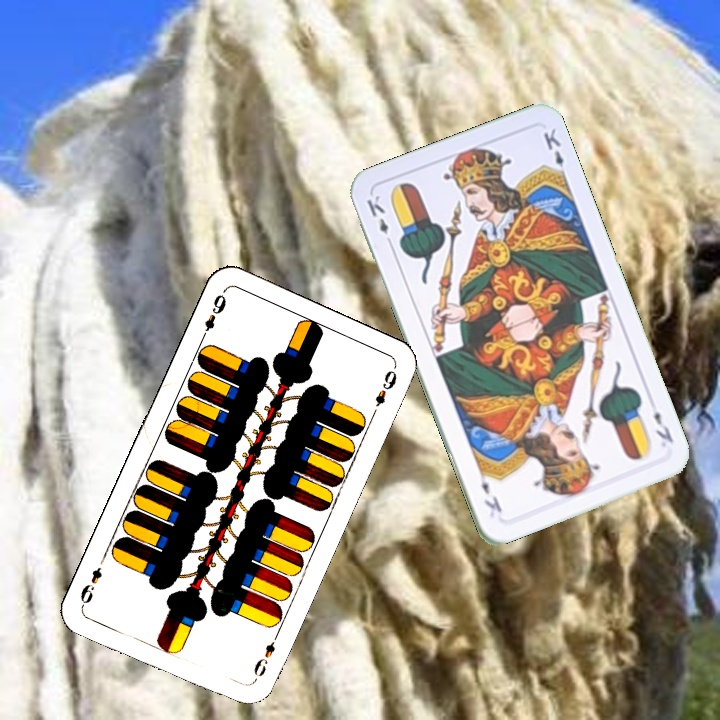E9: (196, 287, 229, 343), (249, 629, 281, 685)
EK: (362, 191, 396, 249), (649, 407, 676, 446)
